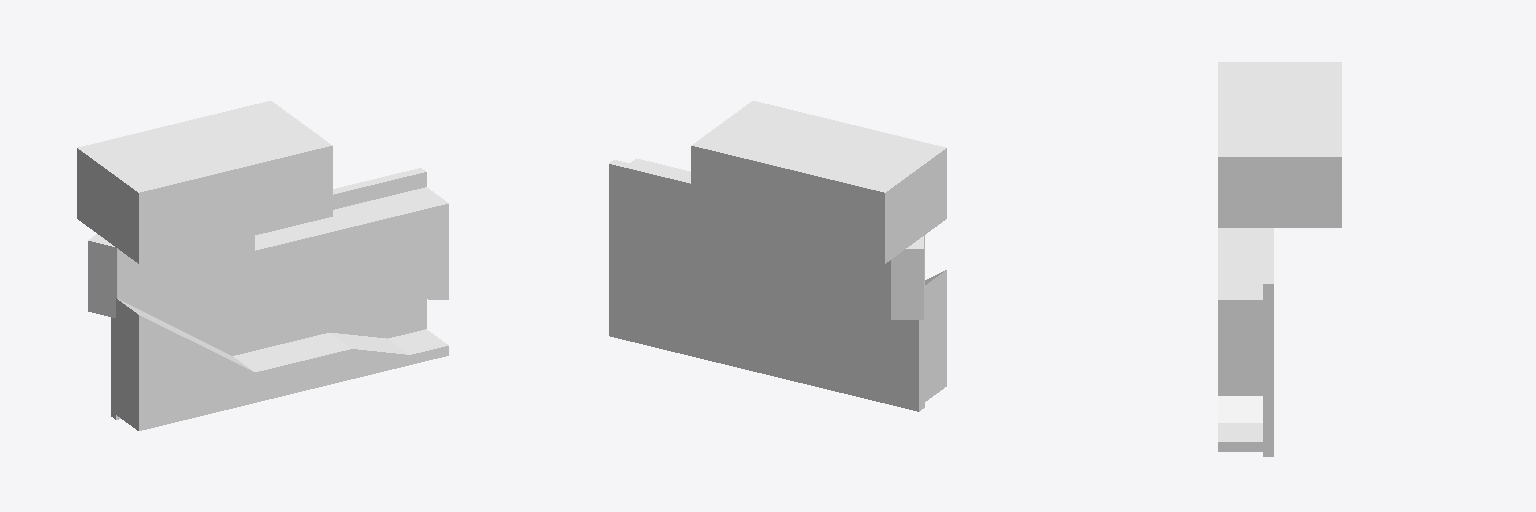
The model's file is LeftStaircase.obj.
The picture shows the model from 3 angles: view 1: azimuth 30°, elevation 25°; view 2: azimuth 150°, elevation 25°; view 3: azimuth 270°, elevation 25°; orthographic projection.
Visible parts, largest first — view 1: LeftStaircase; view 2: LeftStaircase; view 3: LeftStaircase.
Part boxes in pixels (bbox=[...]): LeftStaircase: bbox=[77, 101, 448, 430]; LeftStaircase: bbox=[609, 101, 946, 411]; LeftStaircase: bbox=[1218, 62, 1341, 456].
Size of the model in its own units: 66.9 by 48 by 22.